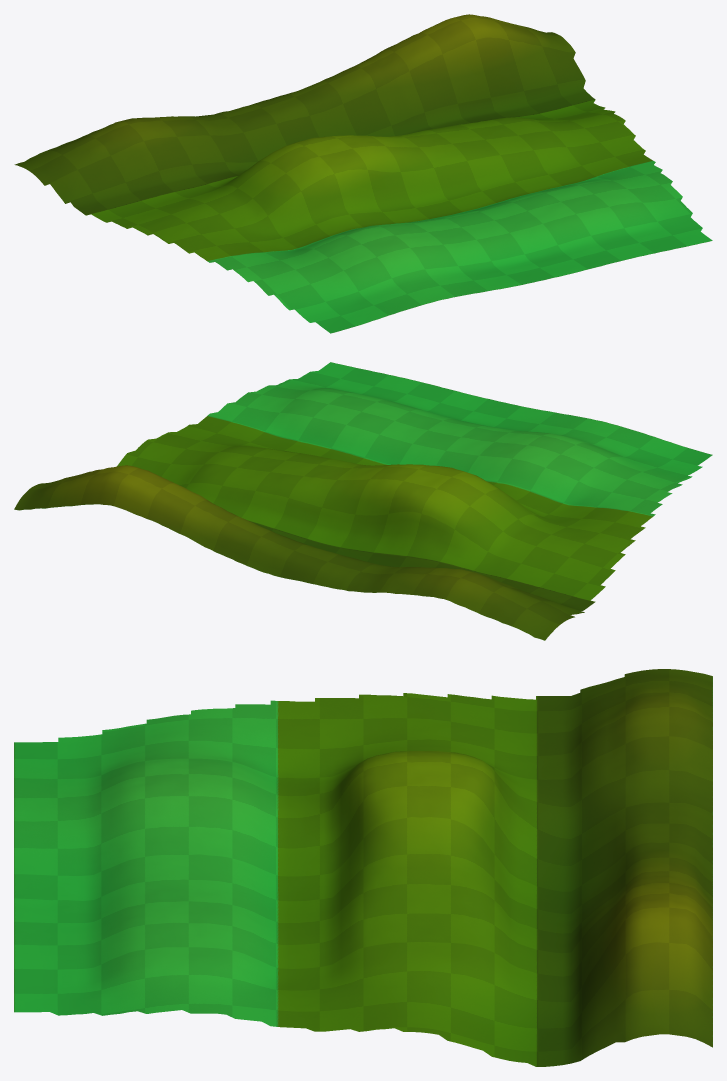
File: terrain.fbx
The picture shows the model from 3 angles, top to bottom: view 1: azimuth 30°, elevation 25°; view 2: azimuth 150°, elevation 25°; view 3: azimuth 270°, elevation 25°; orthographic projection. The views are drawn at different scales.
Parts seen in each view (by area): view 1: Plane004; view 2: Plane004; view 3: Plane004.
Part boxes in pixels (bbox=[...]): Plane004: bbox=[14, 14, 712, 333]; Plane004: bbox=[14, 362, 712, 640]; Plane004: bbox=[14, 669, 712, 1066].
Size of the model in its own units: 26.36 by 3.33 by 20.82.
1 material, 1 textured.
